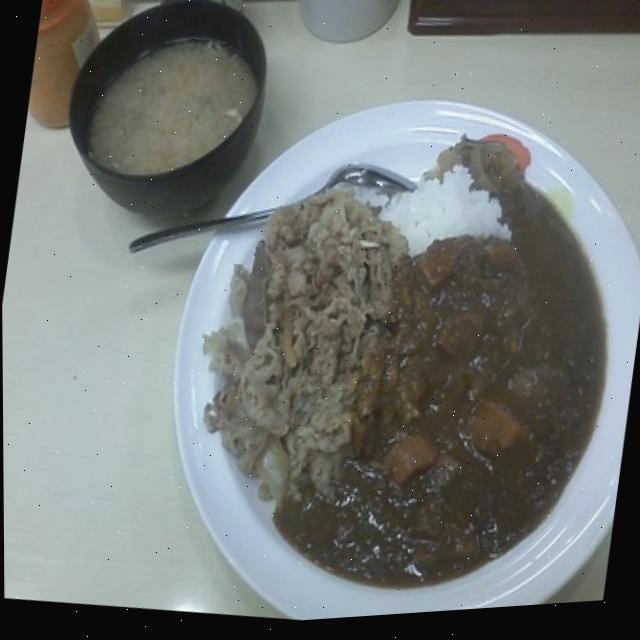汤锅炖物: (53, 0, 285, 240)
牛肉菜式: (136, 56, 640, 633)
